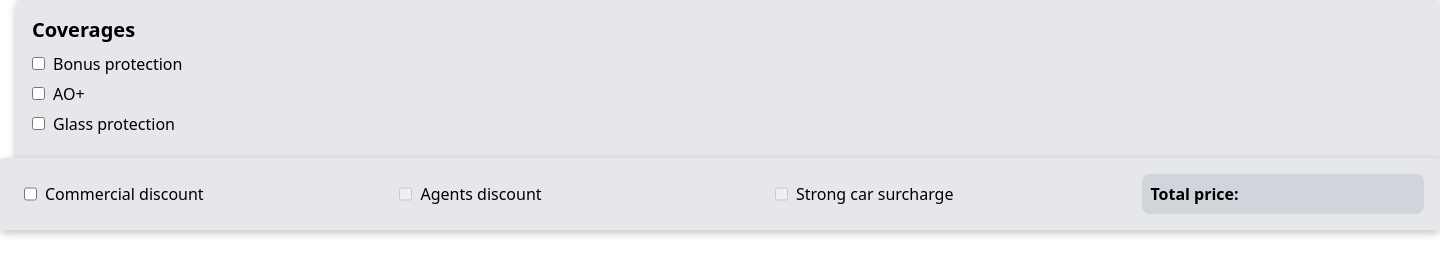
it: after selecting two coverages, agents discount checkbox should be enabled
Expected: the checkbox labelled "Agents discount" is disabled, top-left (400, 182), bottom-right (412, 206)
What coordinates should you click on to do the following:
click the checkbox labelled "Bonus protection"
I would click on:
 (38, 64)
Its box is top-left (32, 57), bottom-right (45, 70).
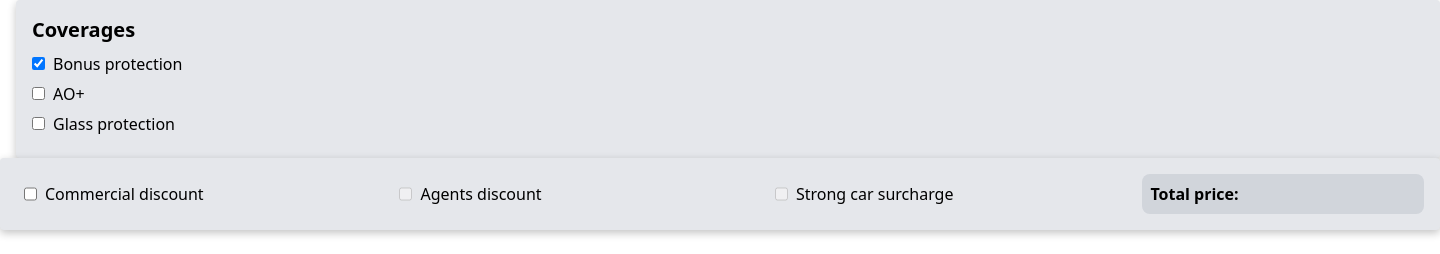
What coordinates should you click on to do the following:
click the checkbox labelled "AO+"
I would click on:
 (38, 94)
Its box is top-left (32, 87), bottom-right (45, 100).
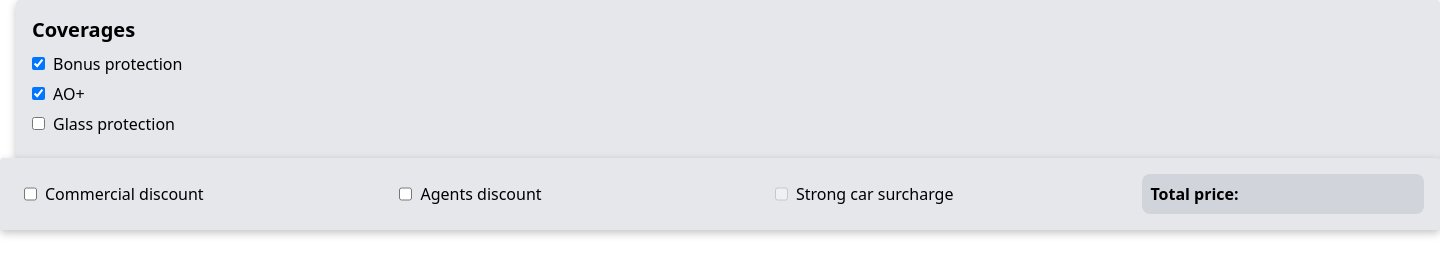
Result: the checkbox labelled "Agents discount" is enabled at top-left (400, 182), bottom-right (412, 206)
